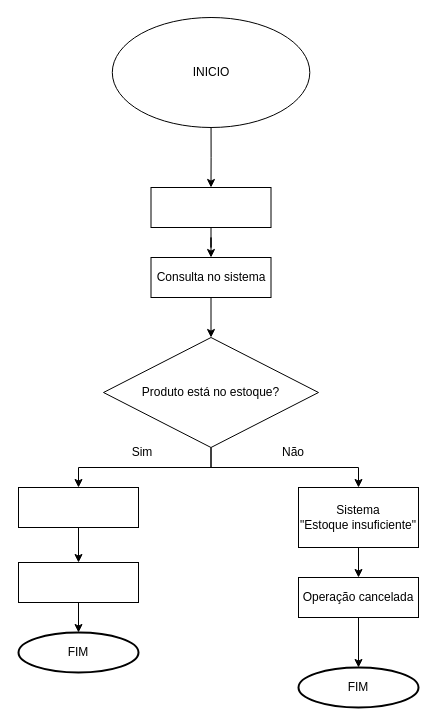
The diagram is 436 pixels wide and 726 high, and some of its shapes have lost their labels. The centre of each missing label's shape, as x and y in pixels:
Banco de dados atualiza: (78,582)
Registro de retirada: (78,507)
Solicitação de Produto: (210,207)
